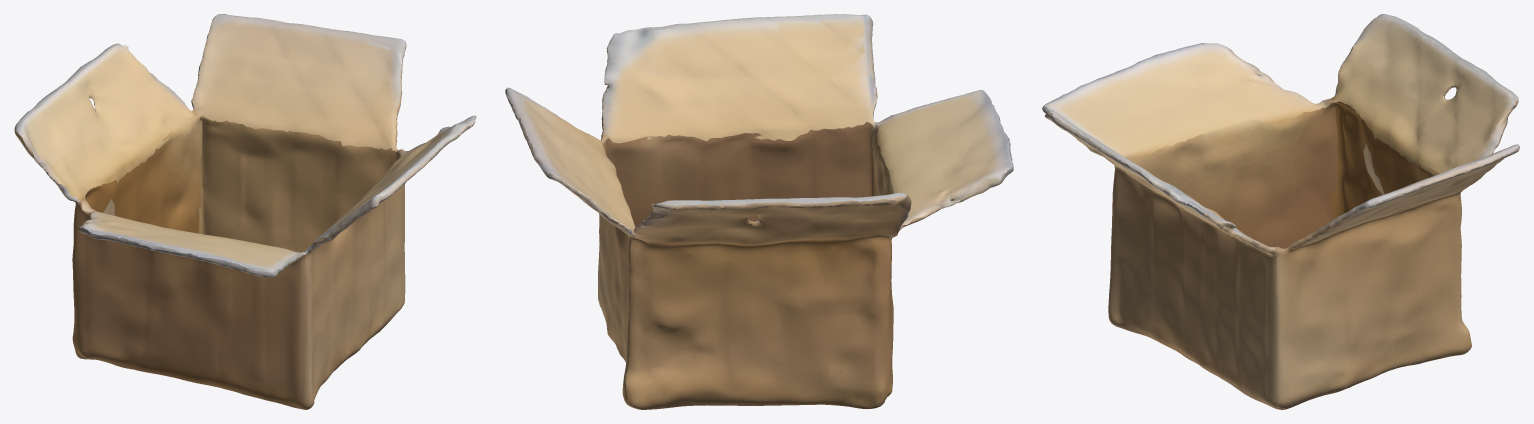
File: paperbox.fbx
3 renders of one model, left to right at view 1: azimuth 30°, elevation 25°; view 2: azimuth 150°, elevation 25°; view 3: azimuth 270°, elevation 25°, orthographic. The views are drawn at different scales.
Parts seen in each view (by area): view 1: tmpz7b5cs9z.ply; view 2: tmpz7b5cs9z.ply; view 3: tmpz7b5cs9z.ply.
Boxes of the visible parts, left/top/right/bottom form: tmpz7b5cs9z.ply: left=14, top=14, right=476, bottom=409; tmpz7b5cs9z.ply: left=505, top=14, right=1013, bottom=409; tmpz7b5cs9z.ply: left=1042, top=14, right=1519, bottom=409.
Bounding box in the file's own units: 94.84 × 52.69 × 96.04.
1 material, 1 textured.
